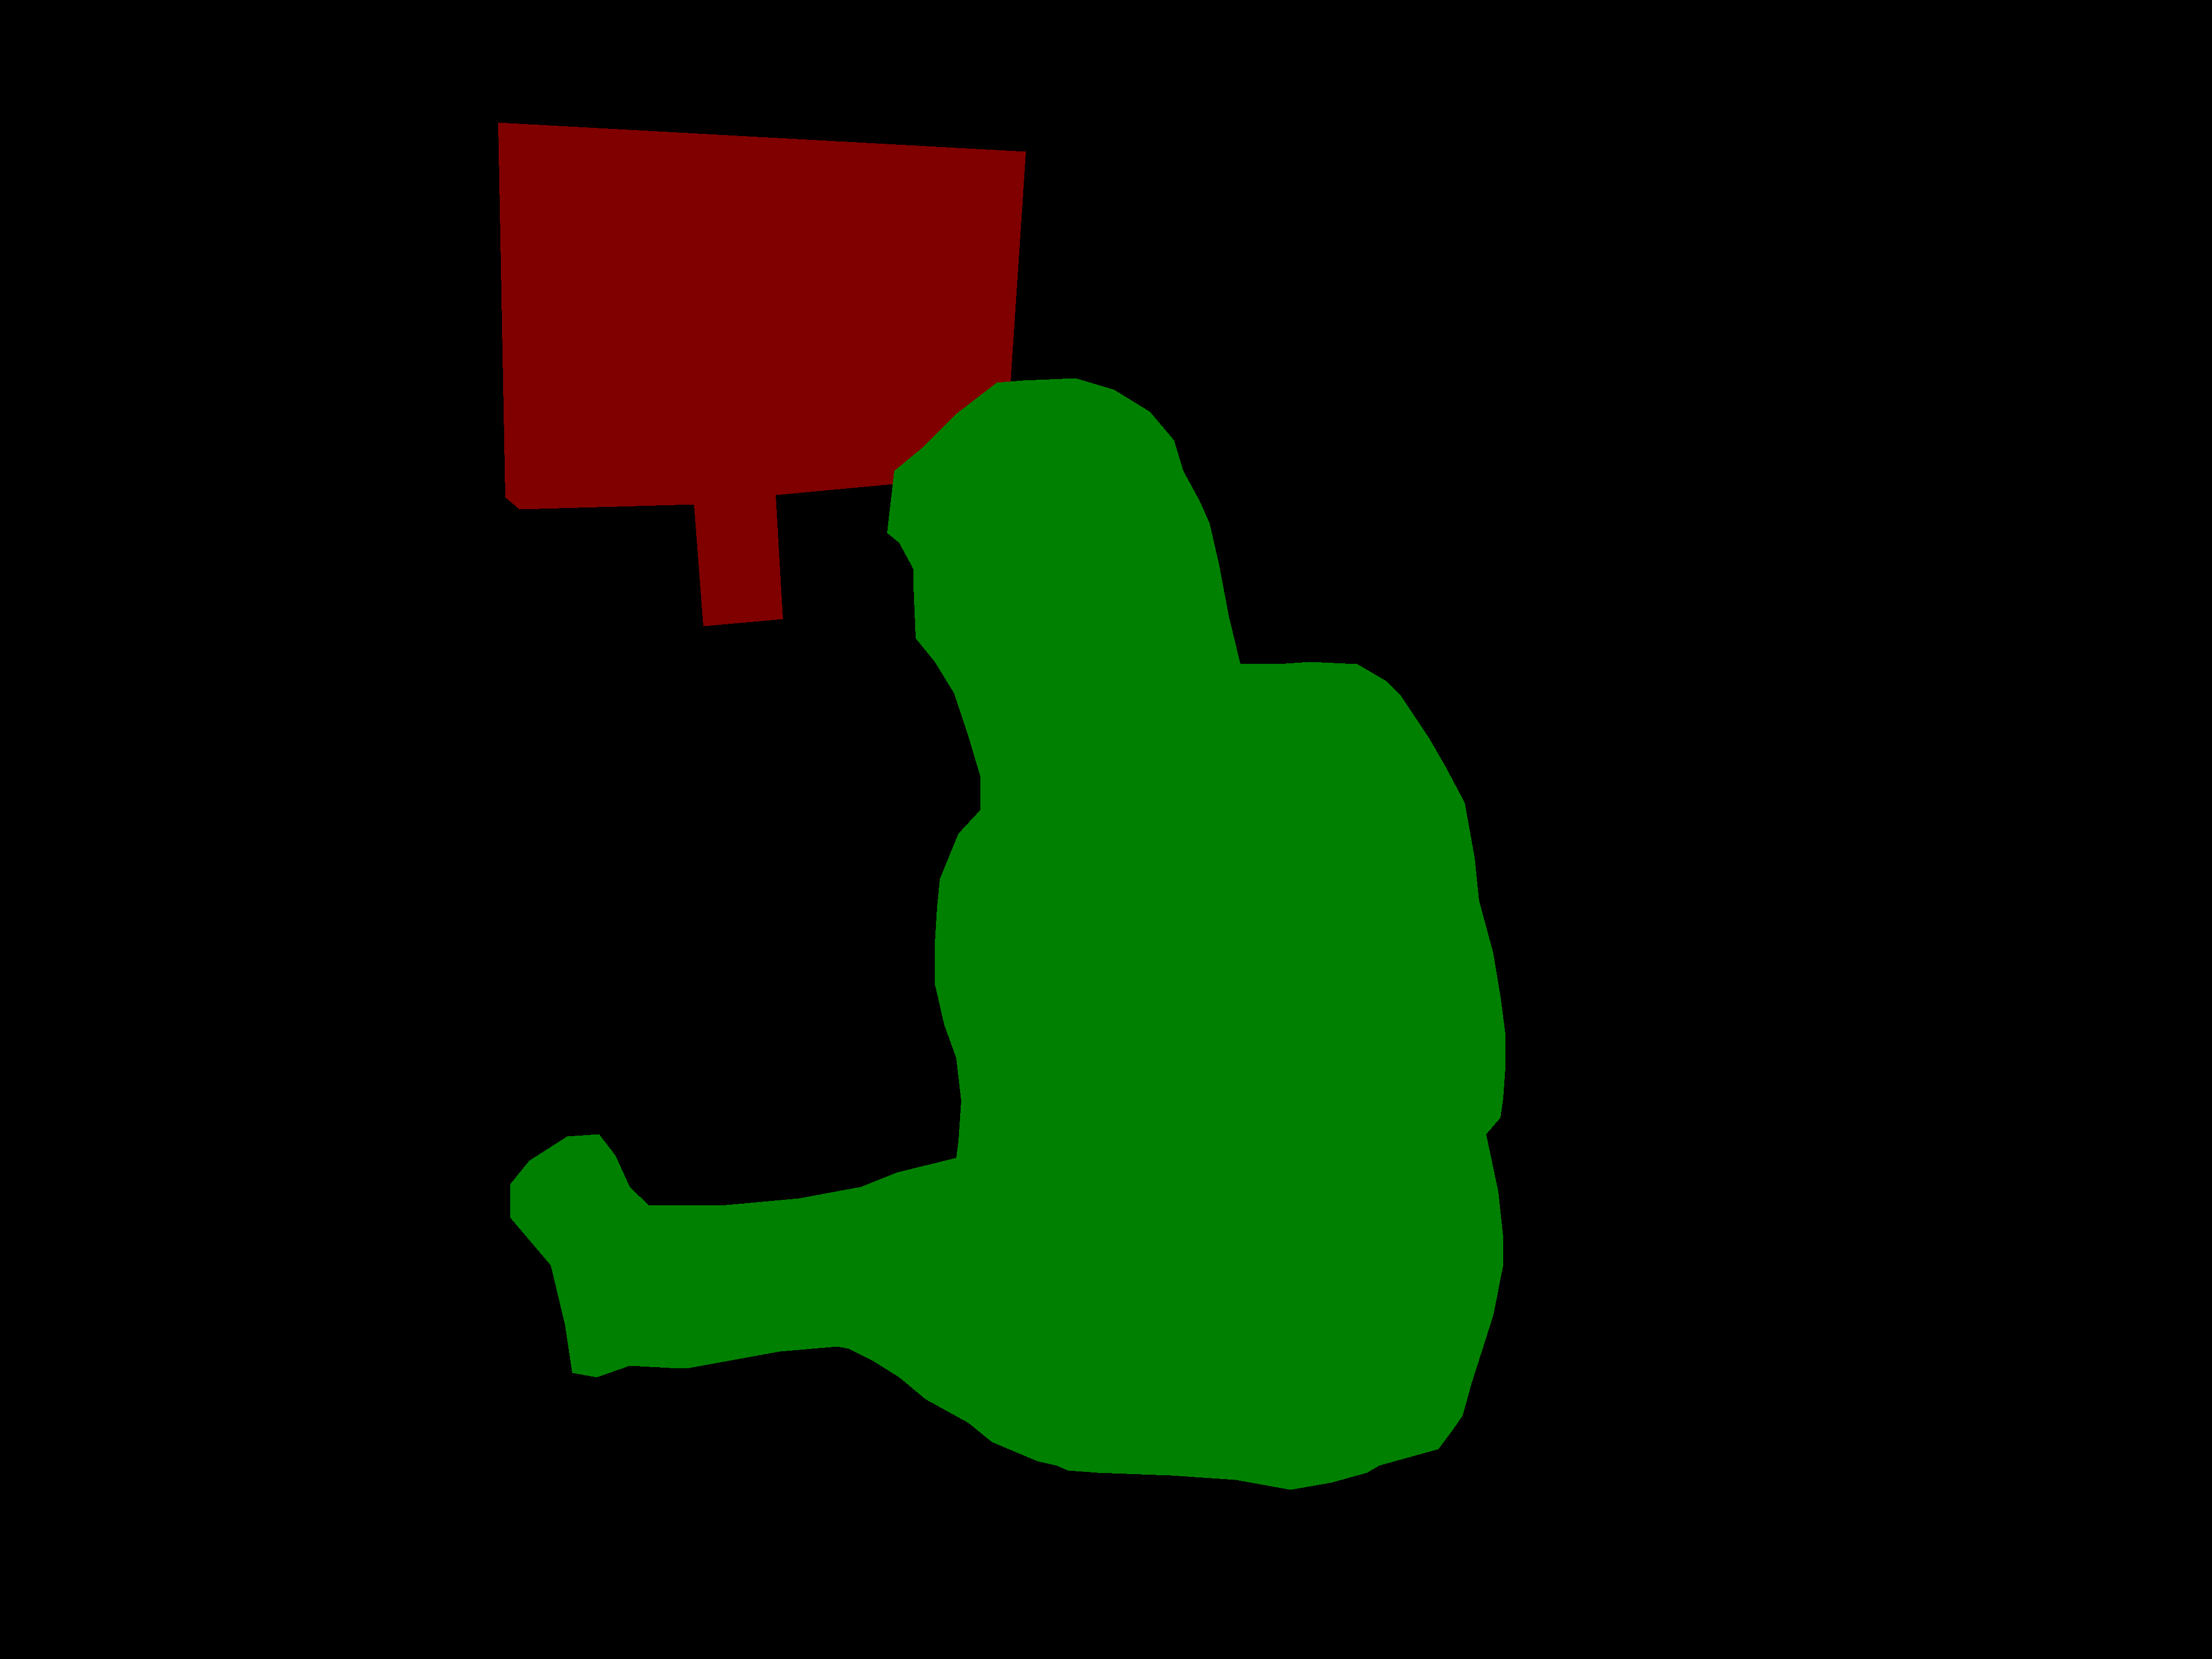person: (510, 378, 1505, 1489)
tvmonitor: (498, 122, 1025, 626)
